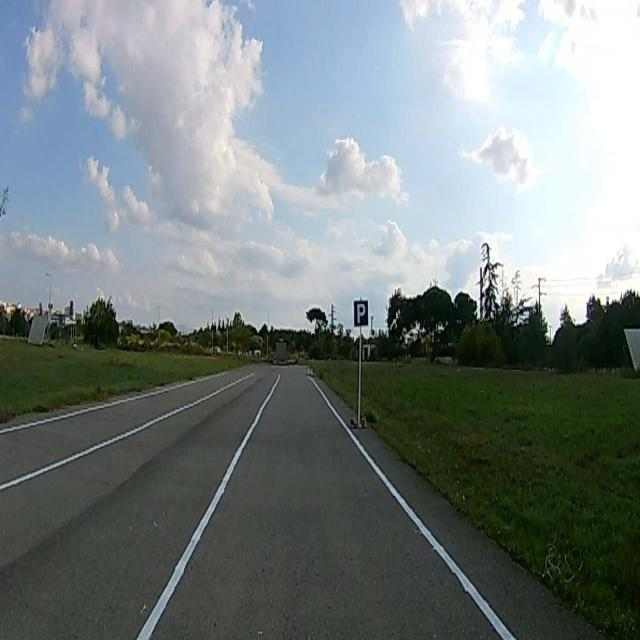park: (354, 300, 368, 328)
